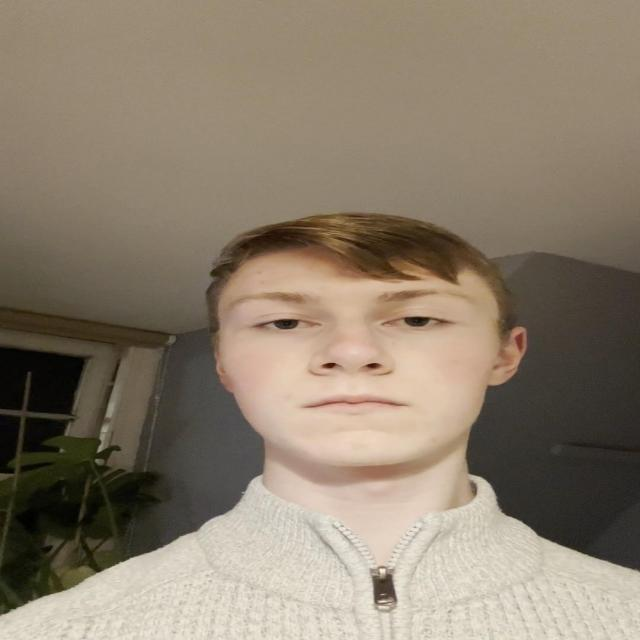no hat: (202, 206, 520, 502)
